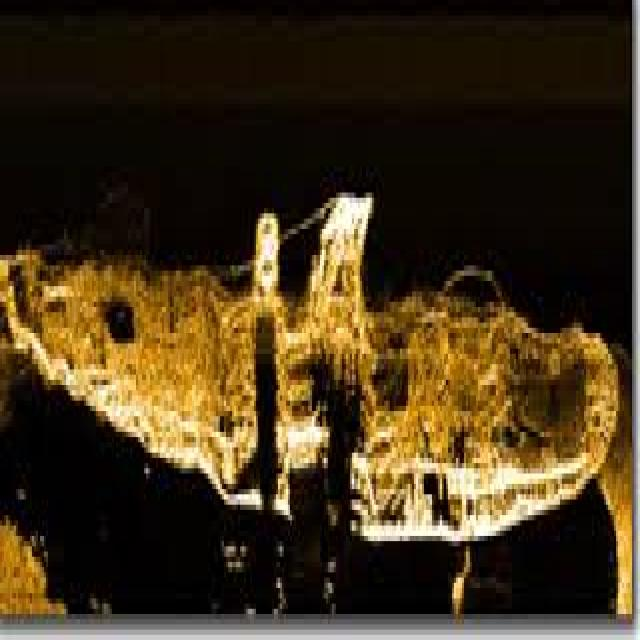ship: (2, 193, 612, 541)
